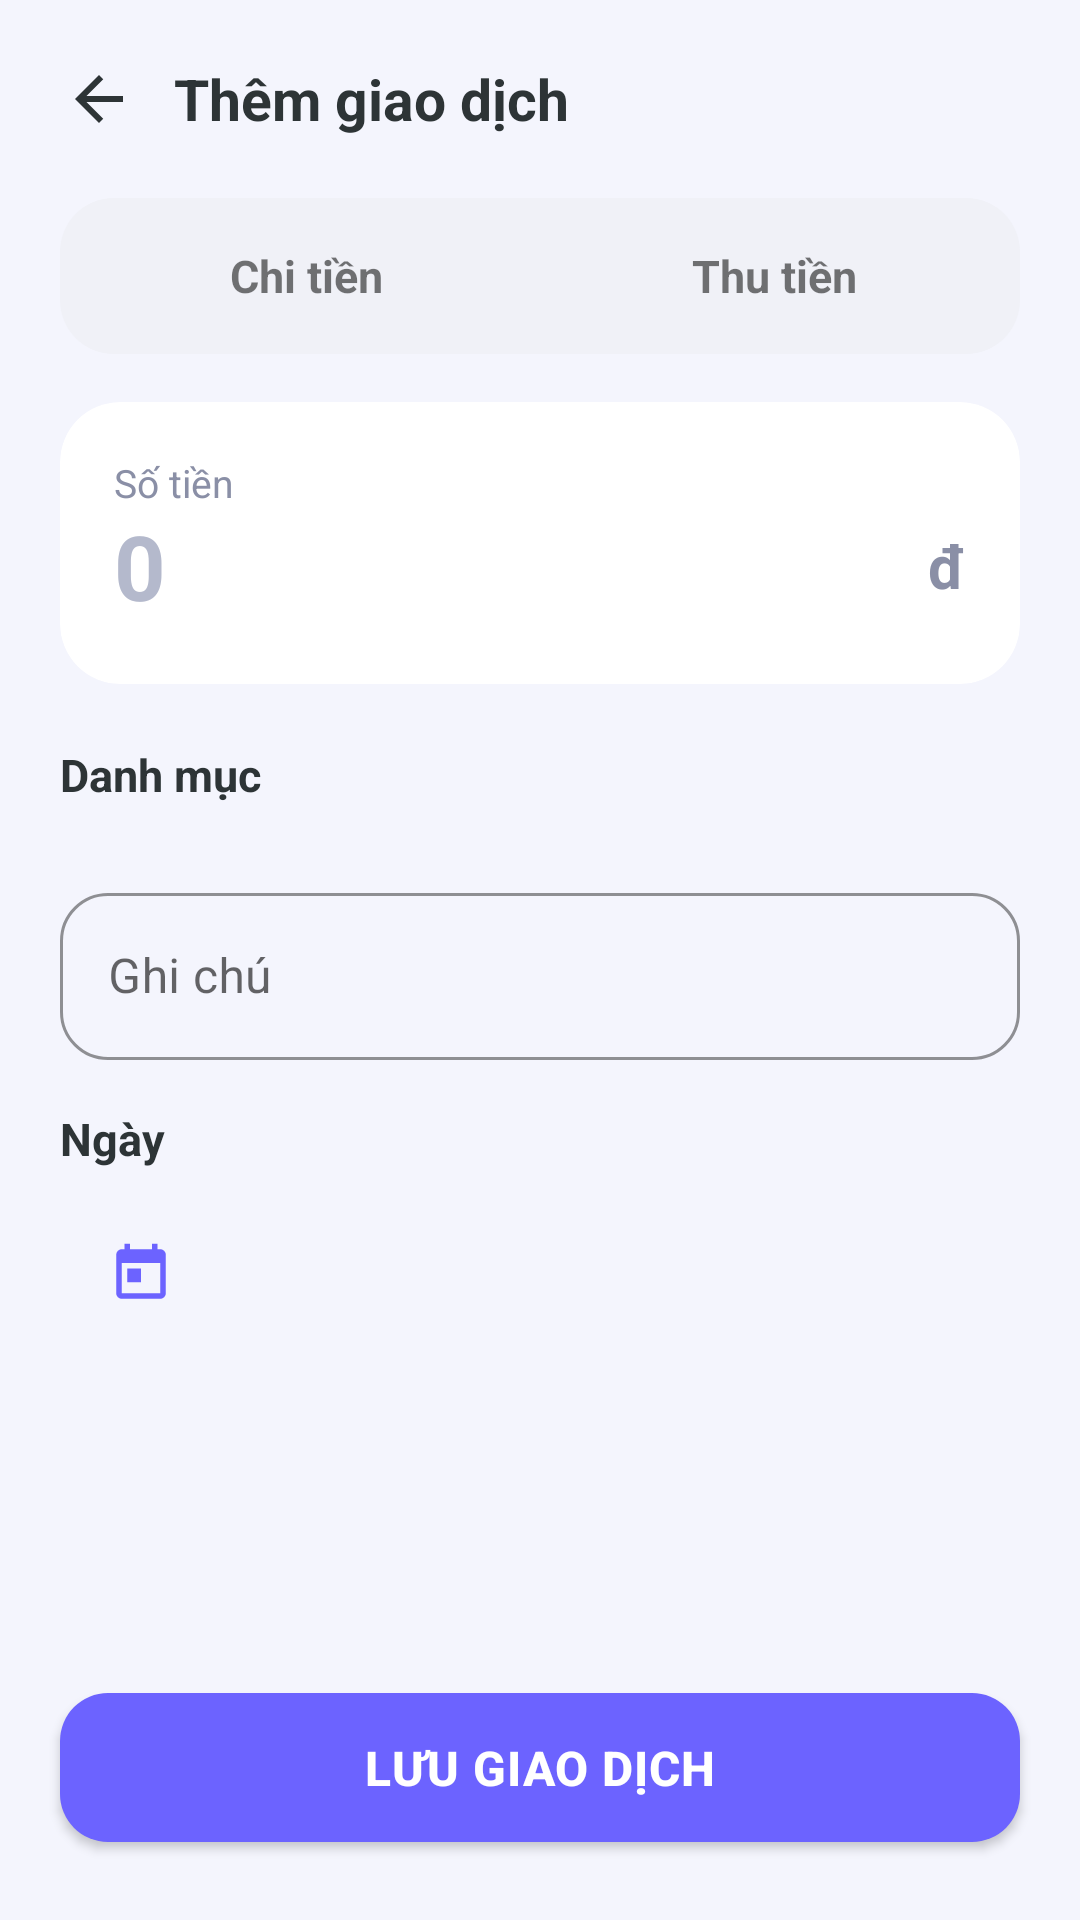

Icon bounding boxes for this 1080×1920 phone screenshot, format region(x1, y1, x2, y2):
calendar: region(116, 1243, 166, 1299)
Hủy: region(75, 75, 123, 123)
